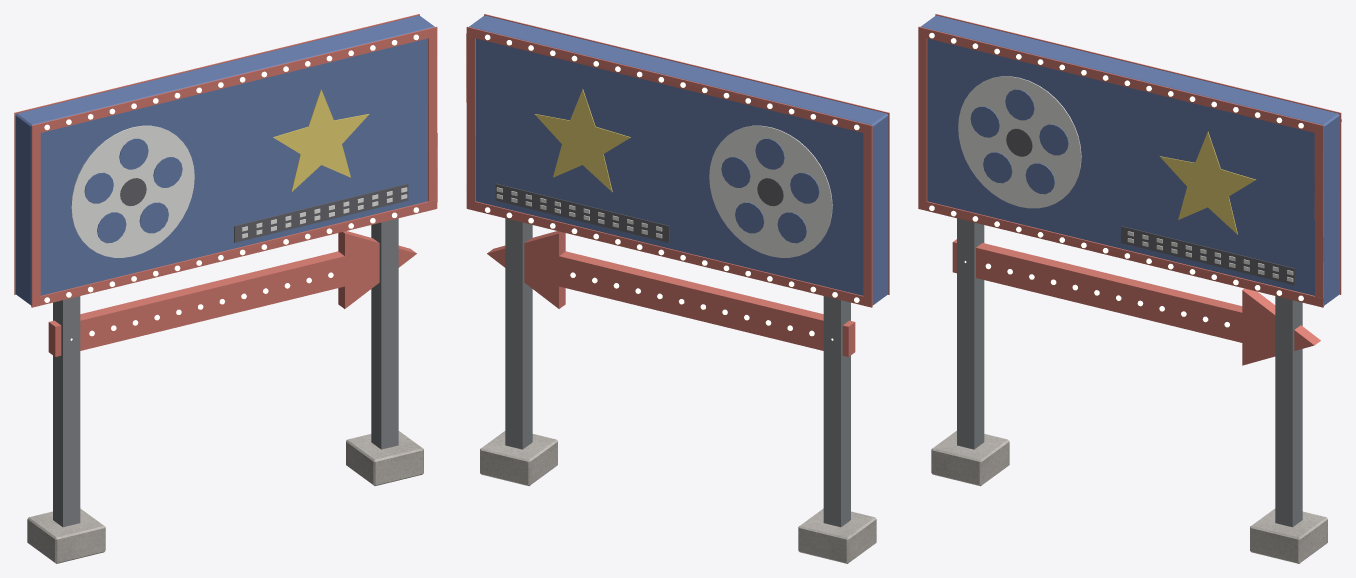
Rendered from marquee_sign.glb.
3 views of the same model, side by side, from view 1: azimuth 30°, elevation 25°; view 2: azimuth 150°, elevation 25°; view 3: azimuth 330°, elevation 25° (orthographic).
Parts seen in each view (by area): view 1: marquee_sign_sign_b, marquee_sign_trim_r, marquee_sign_steel_d, marquee_sign_paint_w, marquee_sign_concrete, marquee_sign_yellowp, marquee_sign_film, marquee_sign_lamp_glass; view 2: marquee_sign_sign_b, marquee_sign_trim_r, marquee_sign_steel_d, marquee_sign_paint_w, marquee_sign_concrete, marquee_sign_yellowp, marquee_sign_film, marquee_sign_lamp_glass; view 3: marquee_sign_sign_b, marquee_sign_trim_r, marquee_sign_steel_d, marquee_sign_paint_w, marquee_sign_concrete, marquee_sign_yellowp, marquee_sign_film, marquee_sign_lamp_glass.
Boxes of the visible parts, x1,y1,x2,y2 form: marquee_sign_sign_b: (15,15,434,305); marquee_sign_trim_r: (14,14,437,356); marquee_sign_steel_d: (53,218,398,527); marquee_sign_paint_w: (71,125,407,257); marquee_sign_concrete: (27,431,423,563); marquee_sign_yellowp: (273,89,369,192); marquee_sign_film: (120,178,408,242); marquee_sign_lamp_glass: (44,34,418,340); marquee_sign_sign_b: (469,15,888,305); marquee_sign_trim_r: (466,14,889,356); marquee_sign_steel_d: (505,218,850,527); marquee_sign_paint_w: (496,125,832,257); marquee_sign_concrete: (480,431,876,563); marquee_sign_yellowp: (534,89,630,192); marquee_sign_film: (495,178,783,242); marquee_sign_lamp_glass: (485,34,859,340); marquee_sign_sign_b: (920,15,1339,305); marquee_sign_trim_r: (918,14,1341,365); marquee_sign_steel_d: (957,218,1302,527); marquee_sign_paint_w: (958,76,1293,282); marquee_sign_concrete: (931,431,1327,563); marquee_sign_yellowp: (1160,131,1255,234); marquee_sign_film: (1006,128,1294,285); marquee_sign_lamp_glass: (929,33,1303,327).
Bounding box in the file's own units: 5.6 × 5.8 × 0.7.
Materials: 8 (1 with a texture image).
